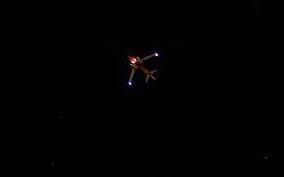Plane: (121, 46, 167, 88)
